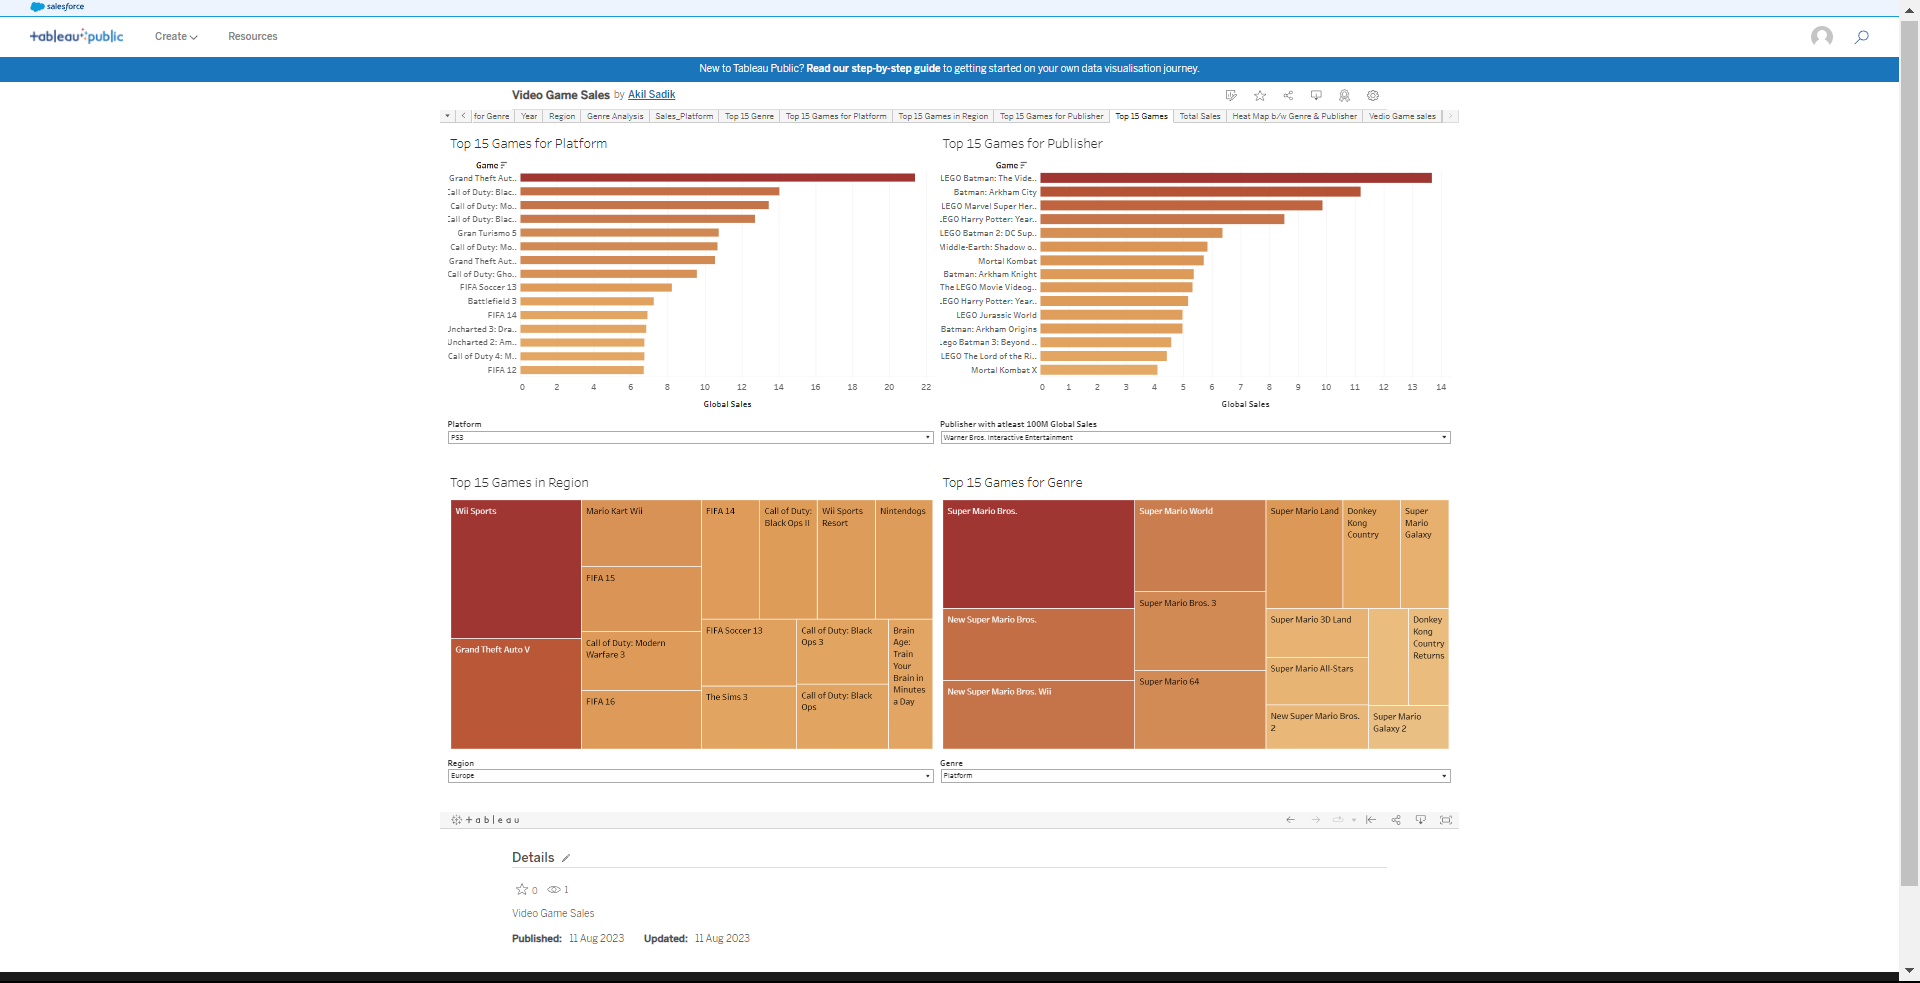

The dashboard page shown, as its layout file describes it:
{"tool":"tableau","page":{"name":"Top 15 Games","canvas":[1630,1100],"ordinal":1},"visuals":[{"type":"worksheet","title":"Top 15 Games for Platform","mark":"Automatic","rows":["Name"],"cols":["Global_Sales"],"box":[8,8,788.1,459.4]},{"type":"worksheet","title":"Top 15 Games for Publisher","mark":"Automatic","rows":["Name"],"cols":["Global_Sales"],"box":[796.1,8,825.9,459.4]},{"type":"filter","title":"Top 15 Games for Platform","param":"[federated.0a69zph172241k1cld04u0z81ynf].[none:Platform:nk]","box":[8,467.4,788.1,82.6]},{"type":"filter","title":"Top 15 Games for Publisher","param":"[federated.0a69zph172241k1cld04u0z81ynf].[Set 1]","box":[796.1,467.4,825.9,82.6]},{"type":"worksheet","title":"Top 15 Games in Region","mark":"Automatic","box":[8,550,788.1,459.4]},{"type":"worksheet","title":"Top 15 Games for Genre","mark":"Automatic","box":[796.1,550,825.9,459.4]},{"type":"filter","title":"Top 15 Games in Region","param":"[federated.18quslc1wu2l3e1drtww60ejdhqj].[none:Region:nk]","box":[8,1009.4,788.1,82.6]},{"type":"filter","title":"Top 15 Games for Genre","param":"[federated.0a69zph172241k1cld04u0z81ynf].[none:Genre:nk]","box":[796.1,1009.4,825.9,82.6]}]}

Visuals, with their boxes on the page's 1630x1100 design canvas (x1, y1, x2, y2). These are canvas units, not pixel positions in the 1920x983 screenshot, which may show the page scaled, cropped or inside an application window:
"Top 15 Games for Platform" worksheet: (8, 8, 796, 467)
"Top 15 Games for Publisher" worksheet: (796, 8, 1622, 467)
"Top 15 Games for Platform" filter: (8, 467, 796, 550)
"Top 15 Games for Publisher" filter: (796, 467, 1622, 550)
"Top 15 Games in Region" worksheet: (8, 550, 796, 1009)
"Top 15 Games for Genre" worksheet: (796, 550, 1622, 1009)
"Top 15 Games in Region" filter: (8, 1009, 796, 1092)
"Top 15 Games for Genre" filter: (796, 1009, 1622, 1092)
